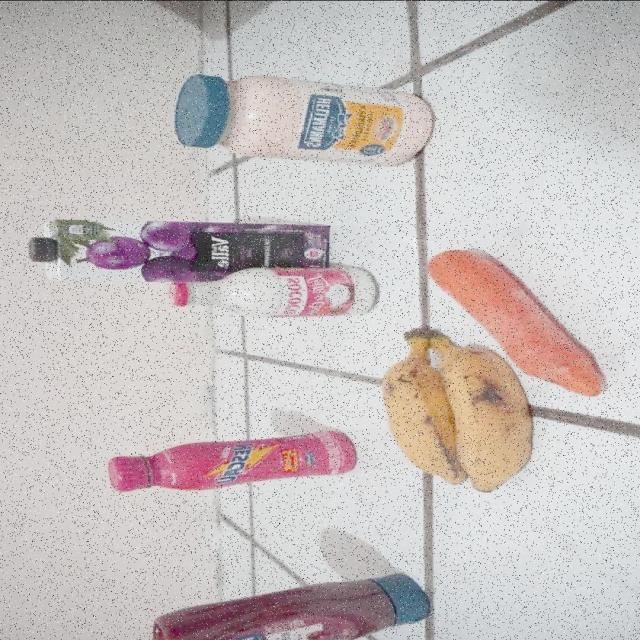Banana: (380, 327, 526, 504)
Carrot: (424, 248, 566, 324)
ChocolateMilk: (104, 434, 356, 493)
CoconutMilk: (166, 267, 380, 316)
Ketchup: (145, 573, 440, 640)
Mayonnaise: (171, 71, 436, 173)
